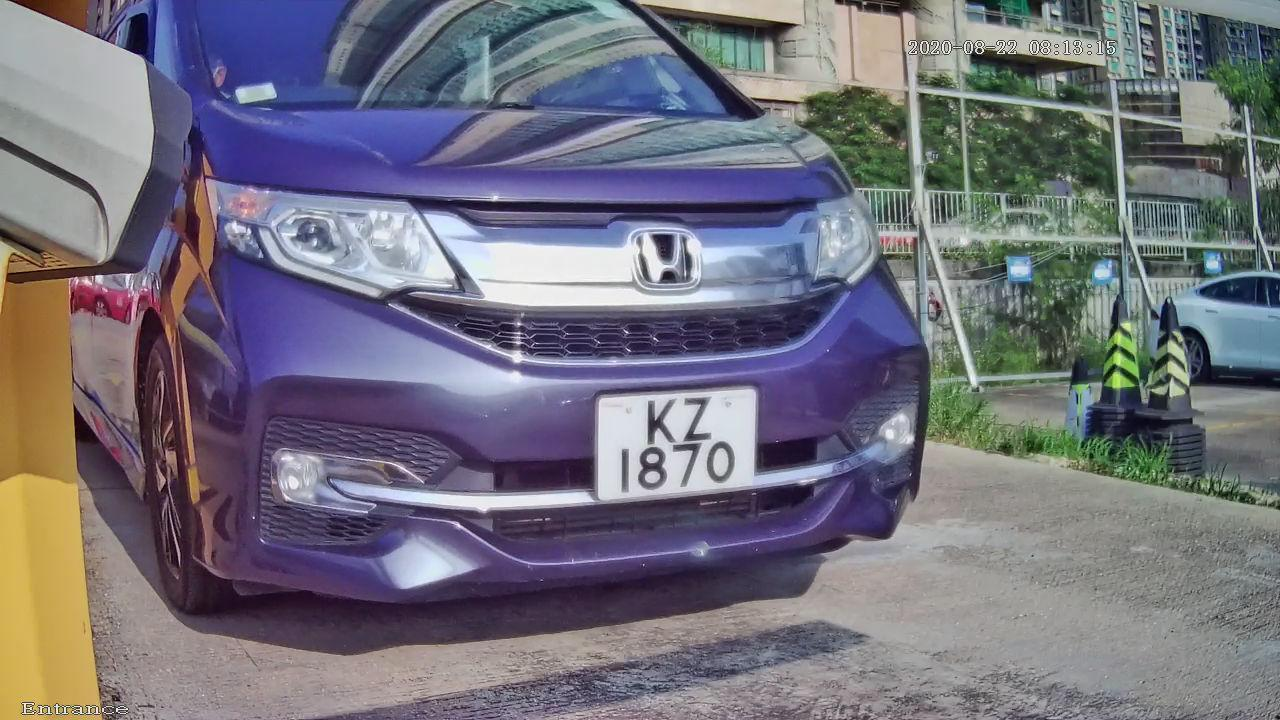License Plate: (578, 373, 772, 515)
